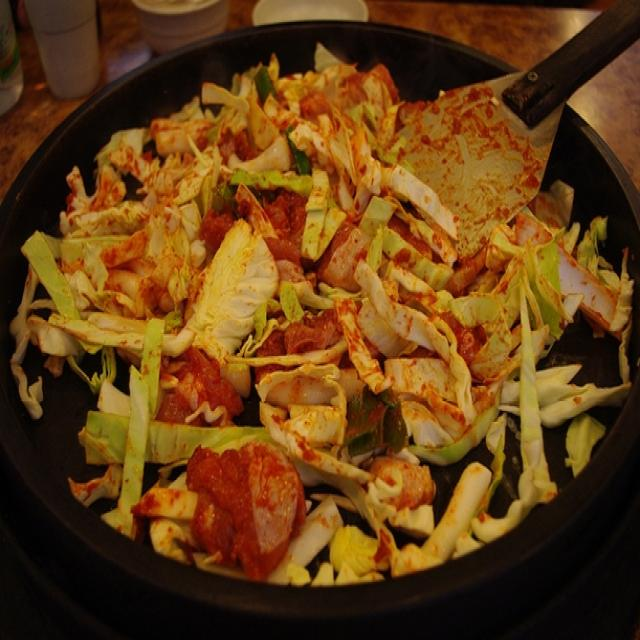鸡肉料理 含炸鸡: (9, 24, 632, 599)
